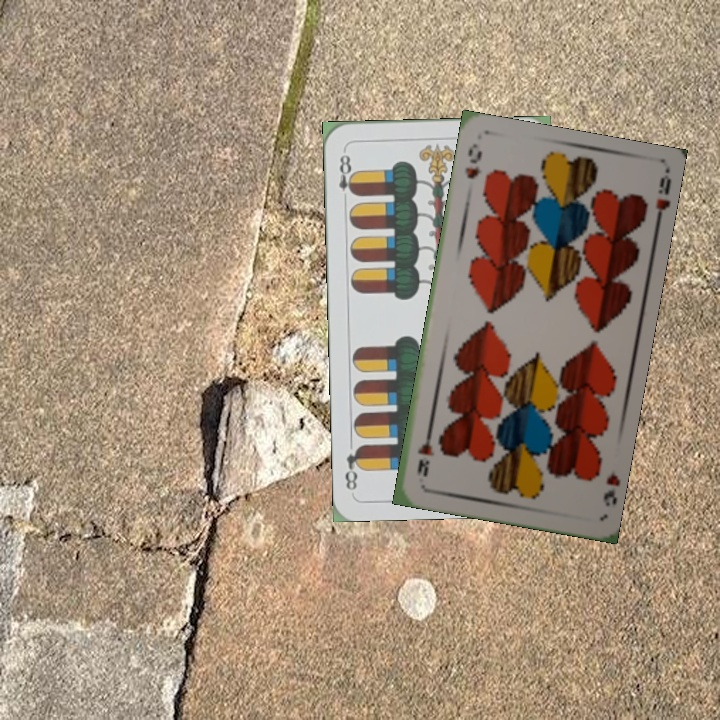E8: (335, 146, 358, 205)
H9: (461, 139, 485, 182), (599, 469, 620, 509)
